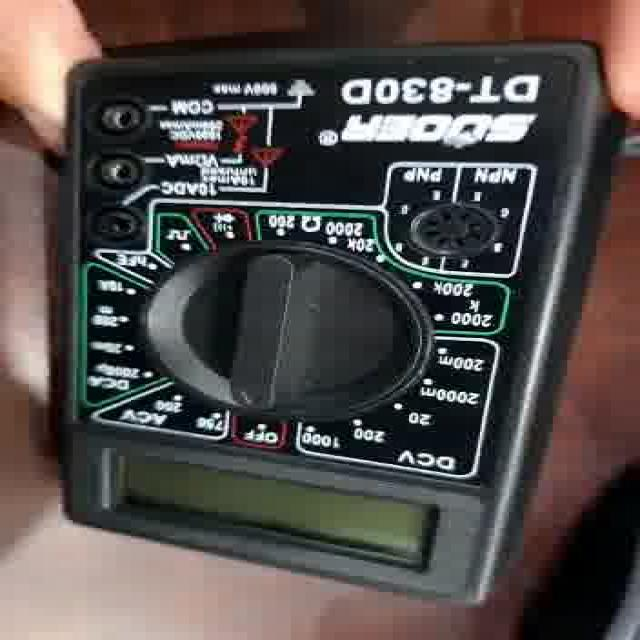multimeter: (51, 48, 518, 600)
